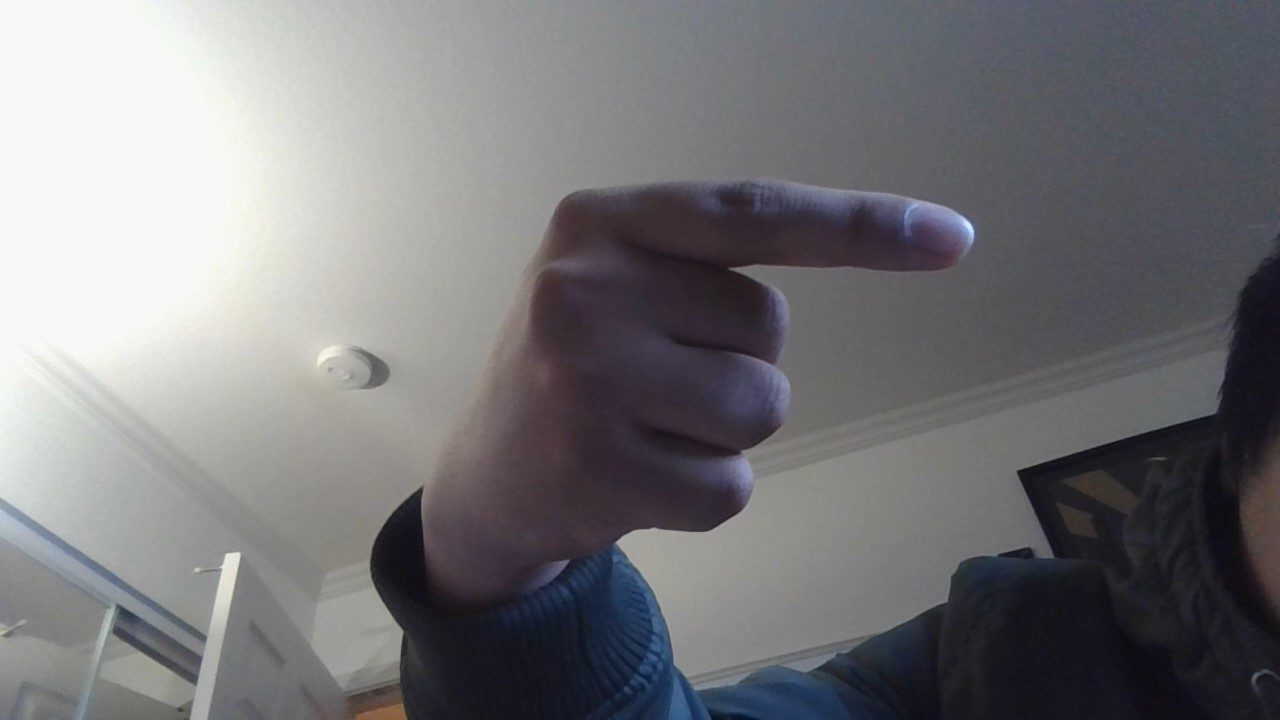g: (371, 163, 993, 618)
